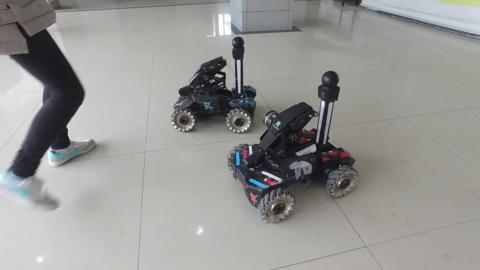chariot: (223, 69, 362, 224), (166, 32, 262, 139)
